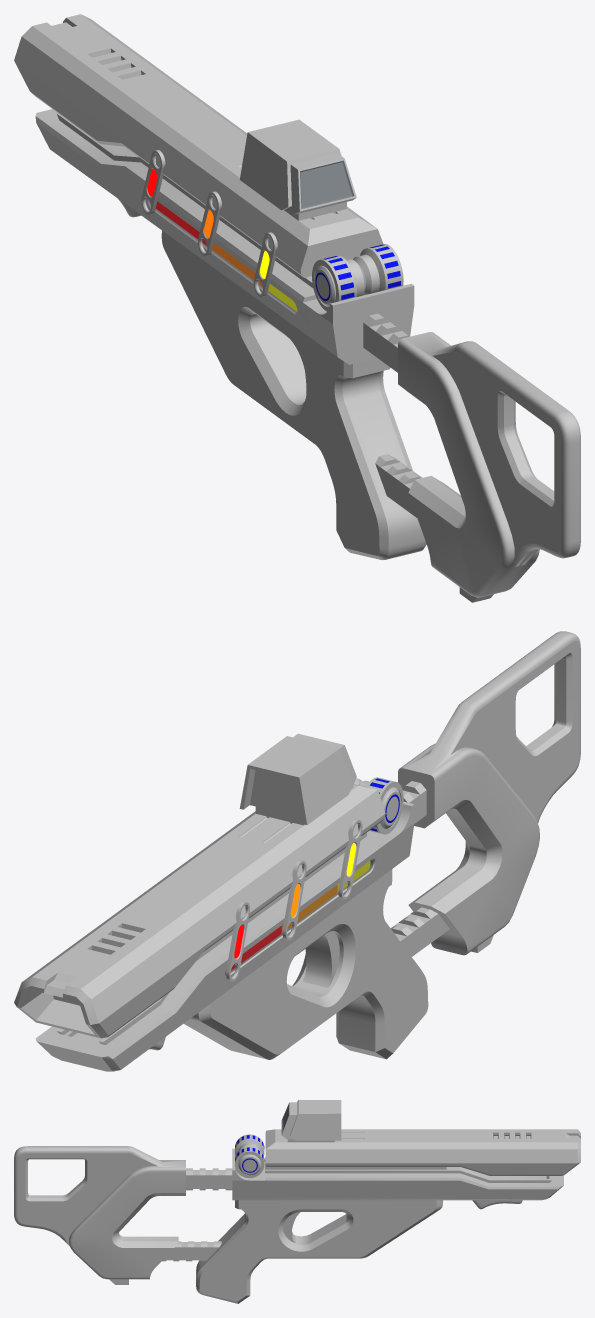
The model's file is l02_animation.FBX.
3 renders of one model, top to bottom at view 1: azimuth 30°, elevation 25°; view 2: azimuth 150°, elevation 25°; view 3: azimuth 270°, elevation 25°, orthographic. The views are drawn at different scales.
Visible parts, largest first — view 1: Object059, gun_low, jesaispas_low, canon_breakable_part, Object062, sight_low002, Object060, sight_low, canon_plate_b_low, sight_low001, jesaispas_low001, aucunes_idee_low_03 (+5 smaller); view 2: Object059, gun_low, Object062, jesaispas_low, canon_breakable_part, sight_low002, sight_low, canon_plate_b_low, Object060, trigger_low, jesaispas_low001, ecroue_c_low (+6 smaller); view 3: Object059, Object060, jesaispas_low, canon_breakable_part, Object062, sight_low002, canon_plate_a_low, sight_low, gun_low, aucunes_idee_low_03, aucunes_idee_low_04, aucunes_idee_low_00.
Boxes of the visible parts, x1,y1,x2,y2 form: Object059: [363, 313, 580, 602]; gun_low: [161, 230, 406, 560]; jesaispas_low: [35, 109, 414, 364]; canon_breakable_part: [144, 109, 383, 277]; Object062: [14, 14, 219, 162]; sight_low002: [239, 119, 341, 210]; Object060: [267, 323, 426, 555]; sight_low: [284, 153, 356, 220]; canon_plate_b_low: [54, 52, 124, 118]; sight_low001: [300, 160, 354, 208]; jesaispas_low001: [155, 201, 297, 312]; aucunes_idee_low_03: [360, 244, 403, 291]; Object059: [390, 631, 580, 956]; gun_low: [188, 869, 428, 1059]; Object062: [14, 882, 228, 1038]; jesaispas_low: [35, 801, 414, 1071]; canon_breakable_part: [152, 784, 385, 934]; sight_low002: [239, 736, 352, 824]; sight_low: [250, 733, 356, 825]; canon_plate_b_low: [108, 927, 178, 993]; Object060: [183, 953, 367, 1054]; trigger_low: [303, 931, 339, 987]; jesaispas_low001: [225, 860, 373, 975]; ecroue_c_low: [338, 819, 362, 899]; Object059: [14, 1146, 232, 1284]; Object060: [196, 1200, 442, 1303]; jesaispas_low: [232, 1148, 563, 1200]; canon_breakable_part: [265, 1129, 435, 1167]; Object062: [436, 1129, 580, 1175]; sight_low002: [290, 1100, 341, 1140]; canon_plate_a_low: [490, 1139, 534, 1163]; sight_low: [281, 1102, 334, 1142]; gun_low: [196, 1213, 347, 1274]; aucunes_idee_low_03: [235, 1146, 264, 1178]; aucunes_idee_low_04: [238, 1154, 261, 1175]; aucunes_idee_low_00: [235, 1134, 264, 1155].
Size of the model in its own units: 10.85 by 42.33 by 113.
